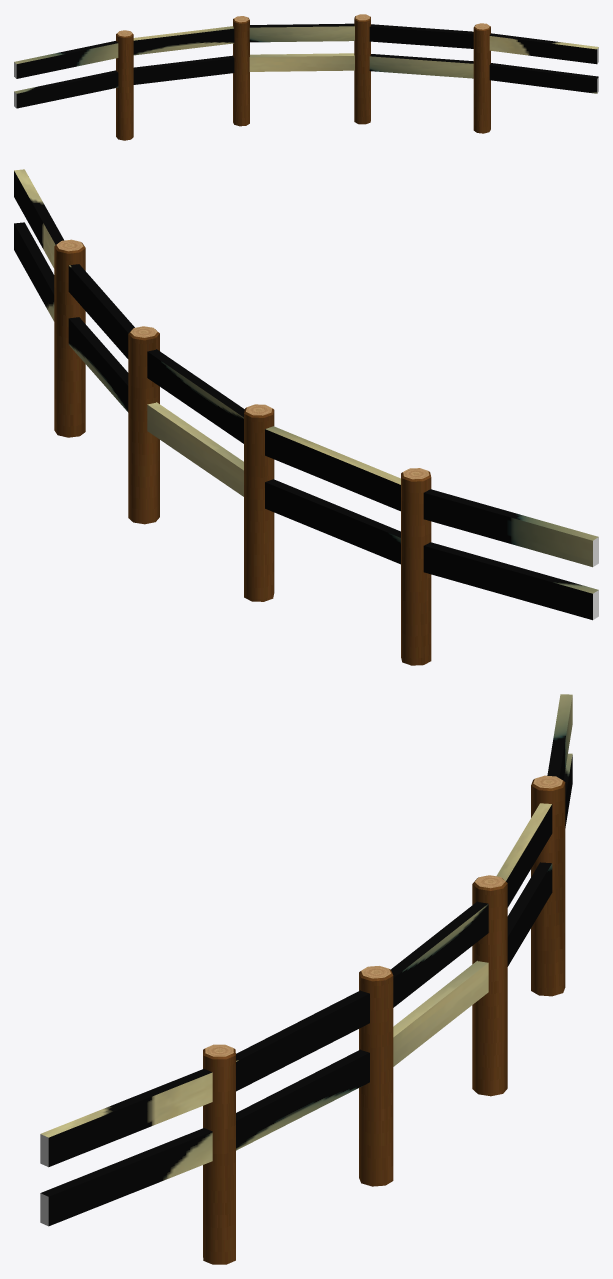
The model's file is Path_Fence_45_Degrees_Curve_Outer_3x4.fbx.
3 renders of one model, top to bottom at view 1: azimuth 30°, elevation 25°; view 2: azimuth 150°, elevation 25°; view 3: azimuth 270°, elevation 25°, orthographic. The views are drawn at different scales.
Parts seen in each view (by area): view 1: Path_Fence_45_Degrees_Curve_Outer_3x4; view 2: Path_Fence_45_Degrees_Curve_Outer_3x4; view 3: Path_Fence_45_Degrees_Curve_Outer_3x4.
Boxes of the visible parts, x1,y1,x2,y2 form: Path_Fence_45_Degrees_Curve_Outer_3x4: [14, 14, 598, 140]; Path_Fence_45_Degrees_Curve_Outer_3x4: [14, 169, 598, 665]; Path_Fence_45_Degrees_Curve_Outer_3x4: [40, 694, 572, 1264].
Bounding box in the file's own units: 402 × 87.5 × 204.
